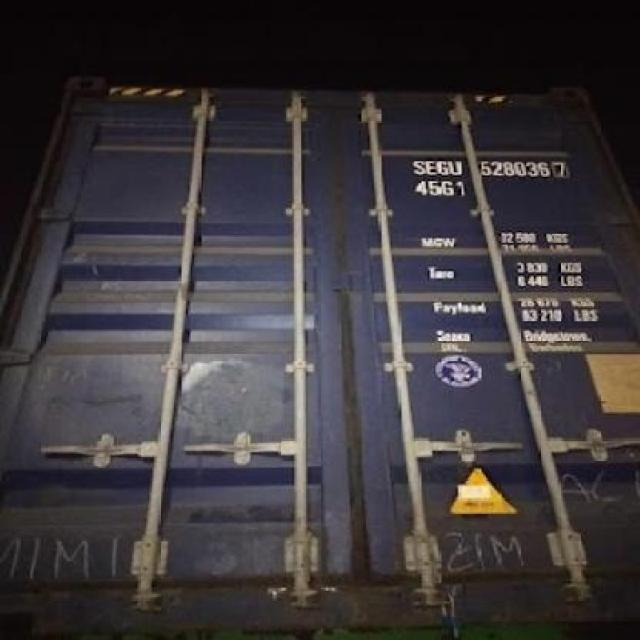ISO: (416, 180, 470, 200)
container_number: (407, 158, 572, 184)
